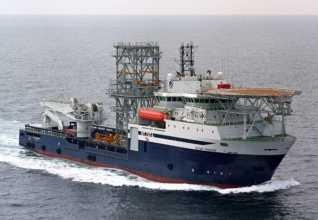otherboat: (9, 30, 303, 185)
